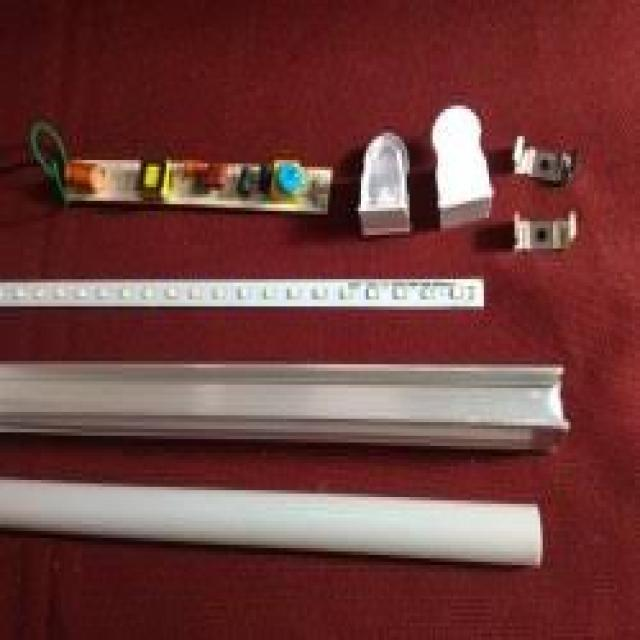tubelight_off: (3, 475, 556, 567)
